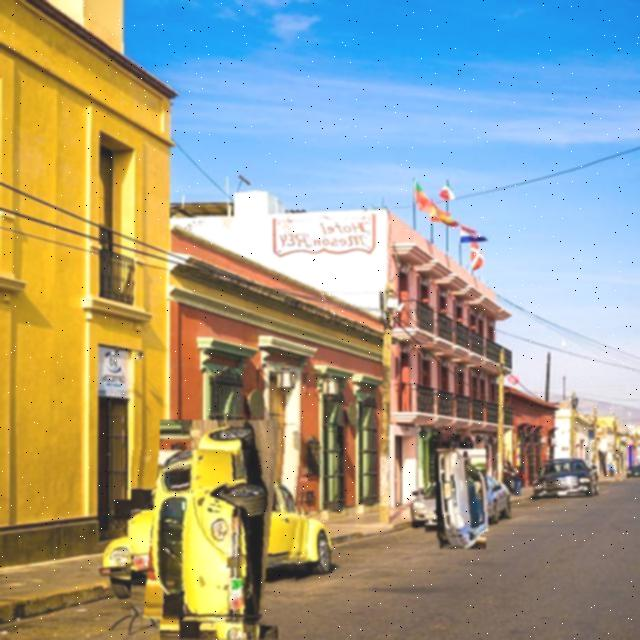car: (132, 451, 309, 628), (424, 461, 499, 538), (535, 459, 596, 497)
